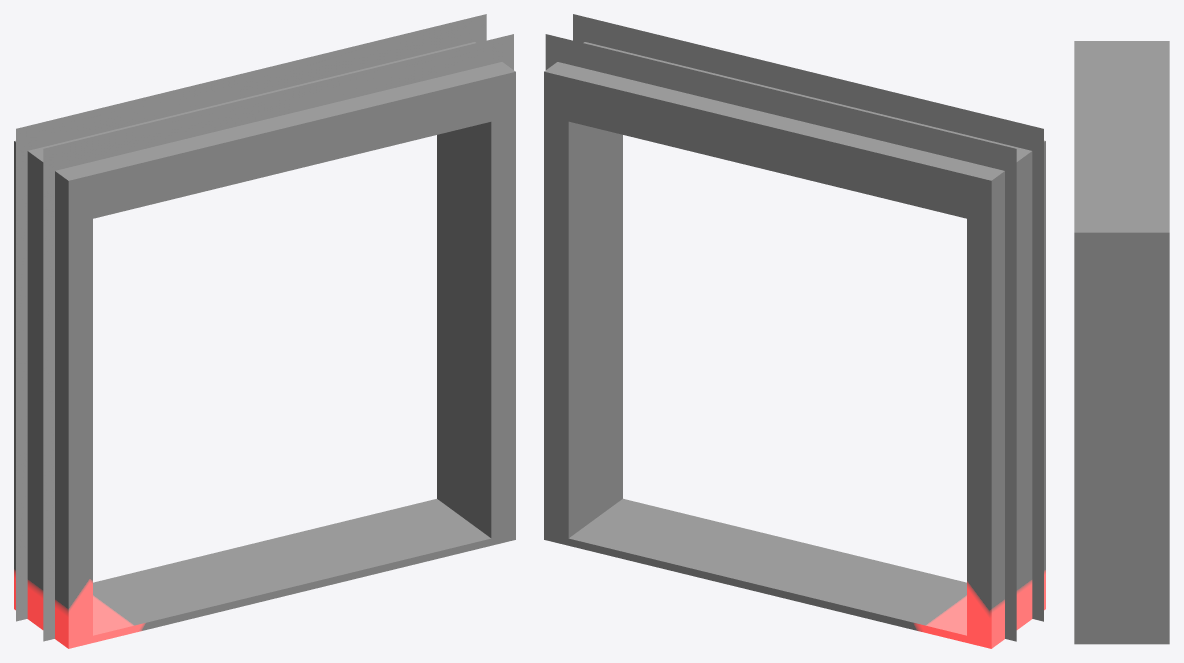
The model's file is modular door data walls.fbx.
3 views of the same model, side by side, from view 1: azimuth 30°, elevation 25°; view 2: azimuth 150°, elevation 25°; view 3: azimuth 270°, elevation 25° (orthographic). The views are drawn at different scales.
Visible parts, largest first — view 1: polySurface1; view 2: polySurface1; view 3: polySurface1.
Boxes of the visible parts, x1,y1,x2,y2 form: polySurface1: (14,14,515,648); polySurface1: (544,14,1045,648); polySurface1: (1074,41,1169,644).
Bounding box in the file's own units: 500 × 500 × 100.
